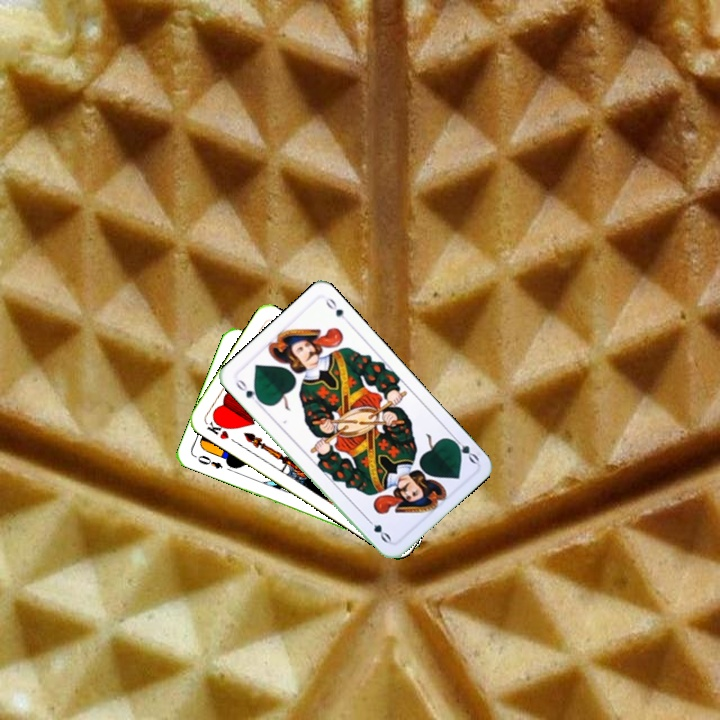EO: (191, 451, 225, 471)
GO: (446, 432, 481, 466), (231, 375, 265, 408)
HK: (202, 414, 232, 442)
